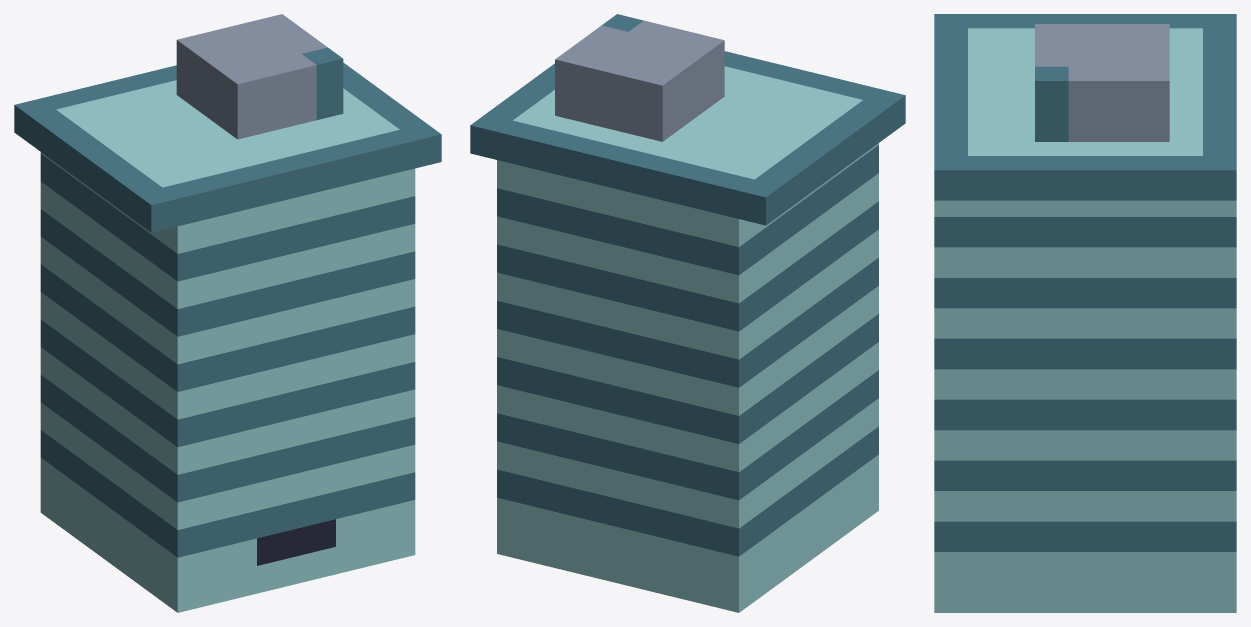
File: office.glb
The picture shows the model from 3 angles, left to right: view 1: azimuth 30°, elevation 25°; view 2: azimuth 150°, elevation 25°; view 3: azimuth 270°, elevation 25°; orthographic projection. The views are drawn at different scales.
Visible parts, largest first — view 1: office_glass, office_glass_band, office_metal, office_black; view 2: office_glass, office_glass_band, office_metal; view 3: office_glass_band, office_glass, office_metal.
Part boxes in pixels (x1,y1,x2,y2): office_glass: (40, 80, 415, 612); office_glass_band: (14, 47, 441, 557); office_metal: (176, 14, 327, 139); office_black: (257, 519, 335, 565); office_glass: (497, 66, 878, 612); office_glass_band: (470, 14, 905, 556); office_metal: (555, 20, 724, 141); office_glass_band: (934, 14, 1236, 551); office_glass: (934, 28, 1236, 612); office_metal: (1035, 24, 1169, 141).
Bounding box in the file's own units: 17.43 × 26.94 × 14.26.
